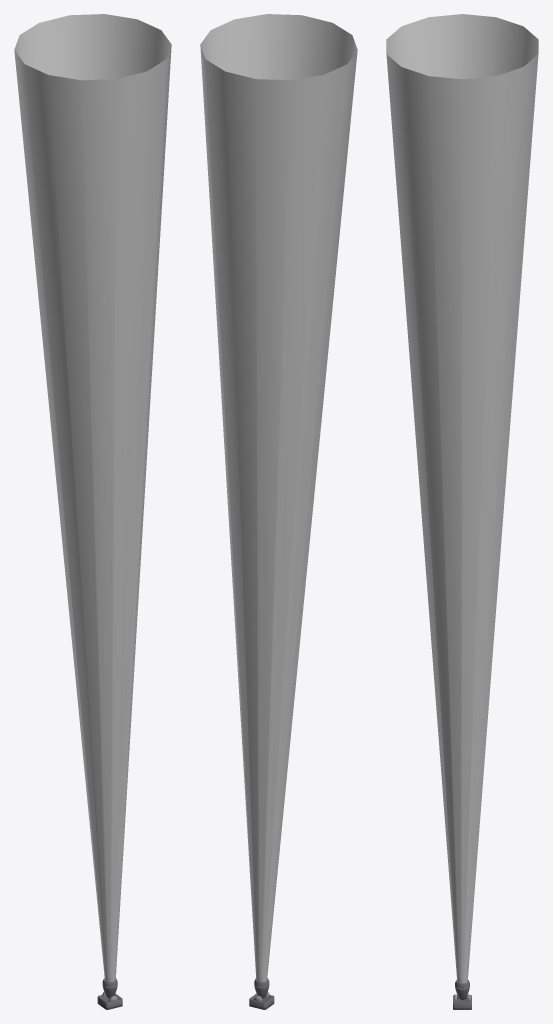
Rendered from Projector.fbx.
The picture shows the model from 3 angles, left to right: view 1: azimuth 30°, elevation 25°; view 2: azimuth 150°, elevation 25°; view 3: azimuth 270°, elevation 25°; orthographic projection.
Parts seen in each view (by area): view 1: Beam; view 2: Beam; view 3: Beam.
Part boxes in pixels (x1,y1,x2,y2): Beam: (14,14,171,981); Beam: (200,14,357,981); Beam: (386,14,538,983).
Size of the model in its own units: 783 by 5266 by 763.
